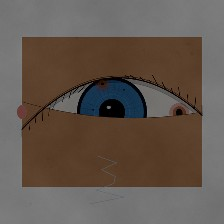foreign_body_visible: (158, 96, 201, 130)
